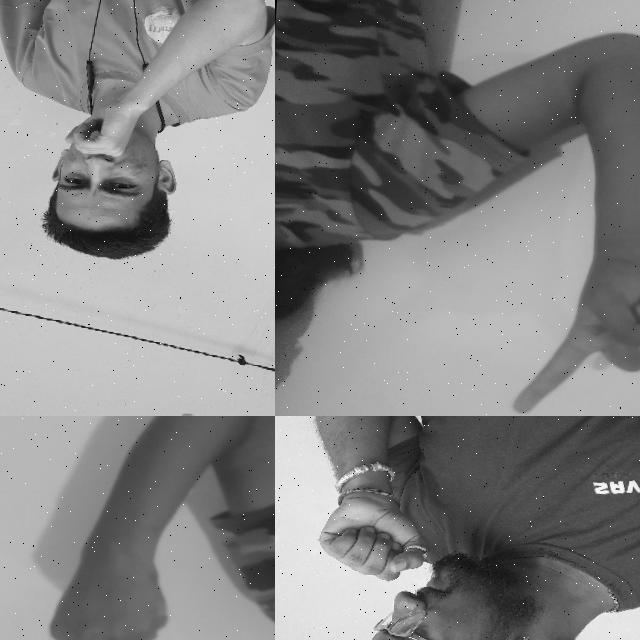Corna: (504, 223, 640, 416)
Dulya: (42, 500, 187, 640)
Fist Mouth: (285, 459, 558, 640), (31, 82, 192, 273)
